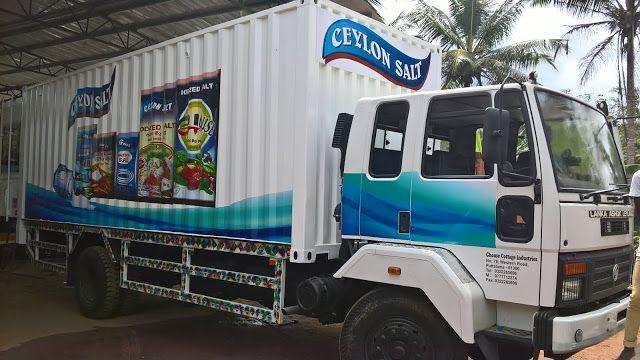truck: (13, 1, 634, 360)
